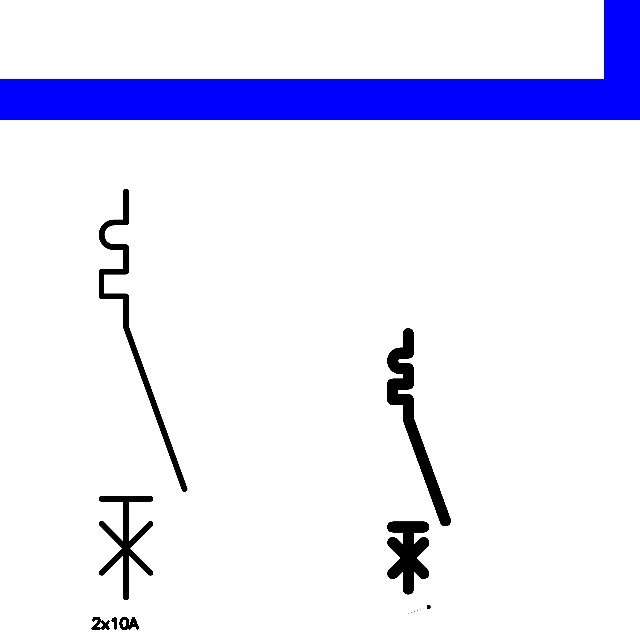interruptor_termomagnetico: (91, 181, 195, 608), (386, 327, 452, 596)
